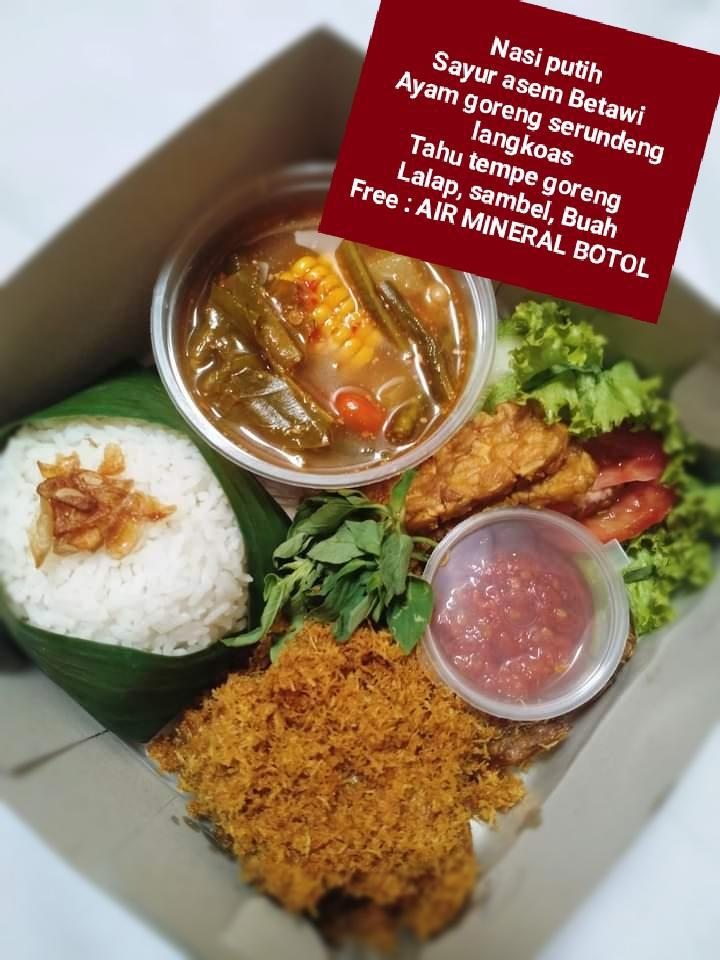buah_sayur_lainnya: (240, 249, 402, 434), (303, 527, 406, 610)
buah_sayur_vitA: (455, 552, 575, 667)
daging: (279, 672, 396, 882)
kacang_legume: (461, 435, 571, 505)
makanan_berpati: (13, 443, 188, 620)
